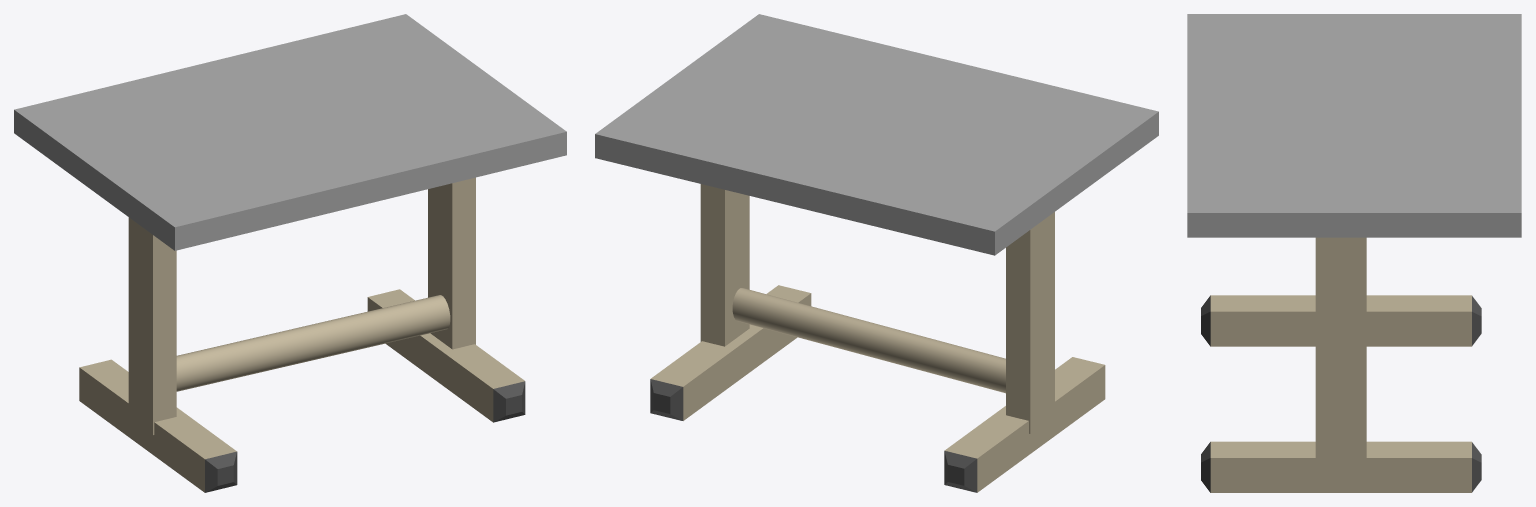
3 renders of one model, left to right at view 1: azimuth 30°, elevation 25°; view 2: azimuth 150°, elevation 25°; view 3: azimuth 270°, elevation 25°, orthographic. The views are drawn at different scales.
Visible parts, largest first — view 1: pCube199; view 2: pCube199; view 3: pCube199.
Part boxes in pixels (box(x1,y1,x2,y2)): pCube199: box(14, 14, 566, 492); pCube199: box(595, 14, 1158, 492); pCube199: box(1187, 14, 1521, 492).
Size of the model in its own units: 70.72 by 48.93 by 50.24.
